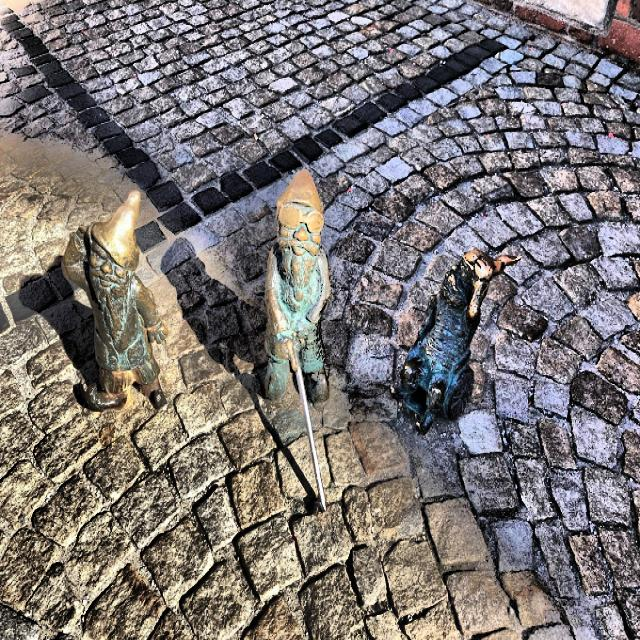Gluchak: (62, 192, 169, 410)
Slepak: (264, 170, 330, 509)
W-Skers: (392, 250, 518, 433)
